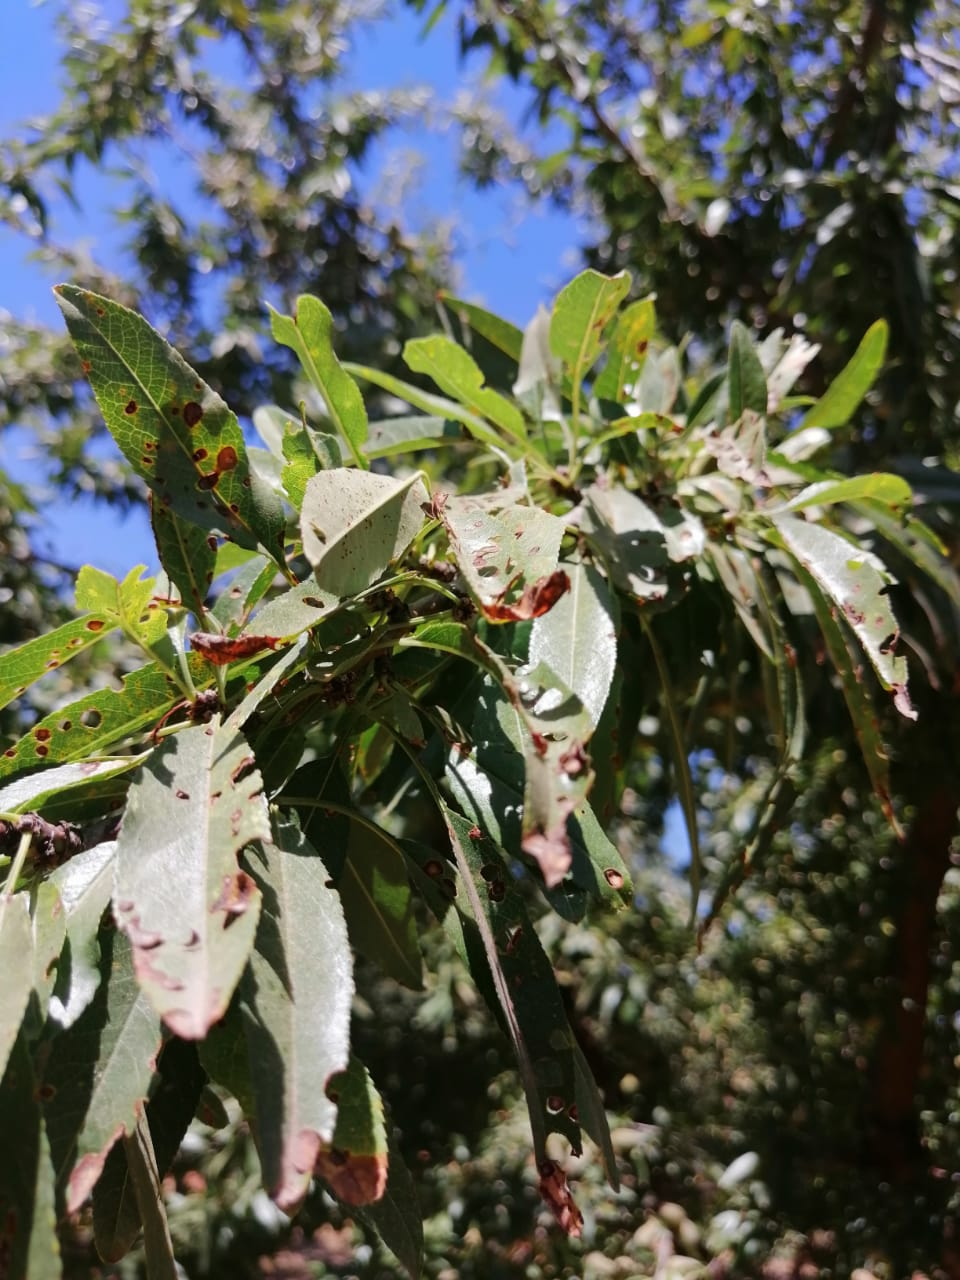coryneum: (436, 800, 622, 1240), (48, 281, 259, 550), (109, 714, 271, 1041), (775, 510, 919, 718), (299, 467, 426, 600)
